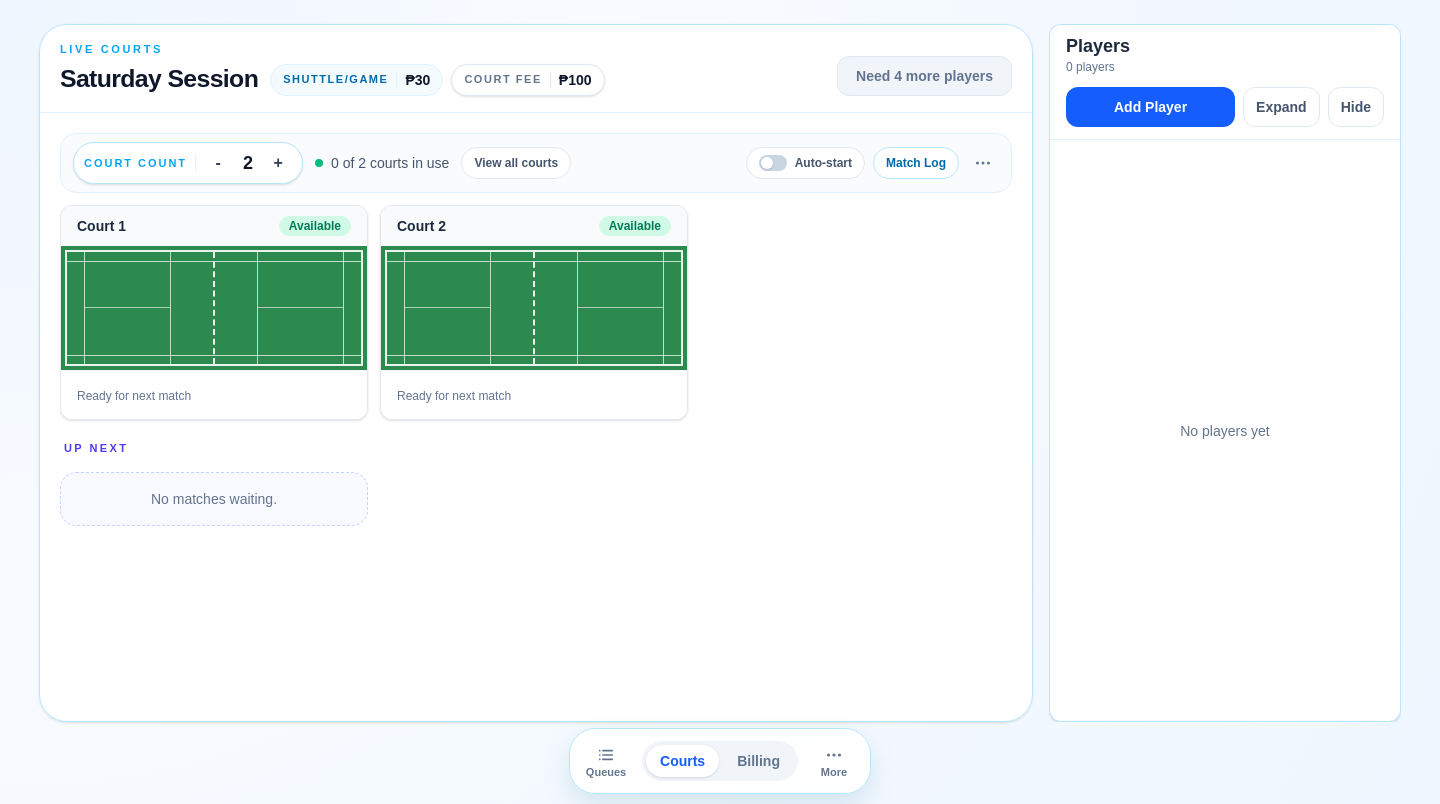
it: Billing tab › shows the summary cards and keeps a removed player's debt (old bug #2)
Click the button "Billing".
click(759, 761)  # box [723,745,794,777]
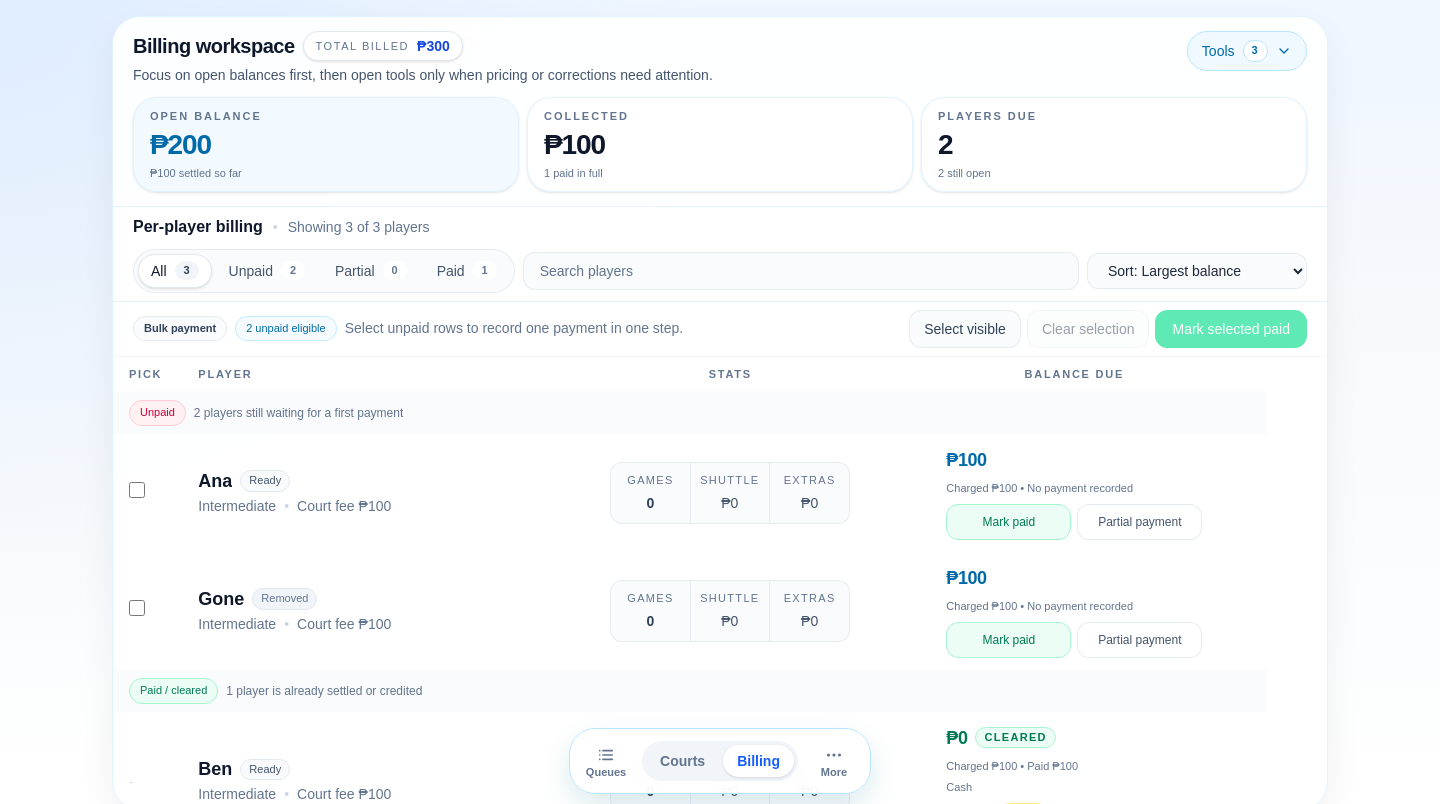
Now the heading "Billing workspace" is shown, box [133,32,295,60]
Now the text "₱200" is shown, box [150,128,211,160]
Now the text "₱100" below "Collected" is shown, box [544,128,605,160]
